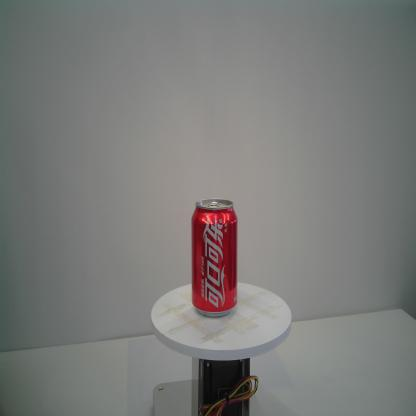Drink: (191, 198, 238, 317)
